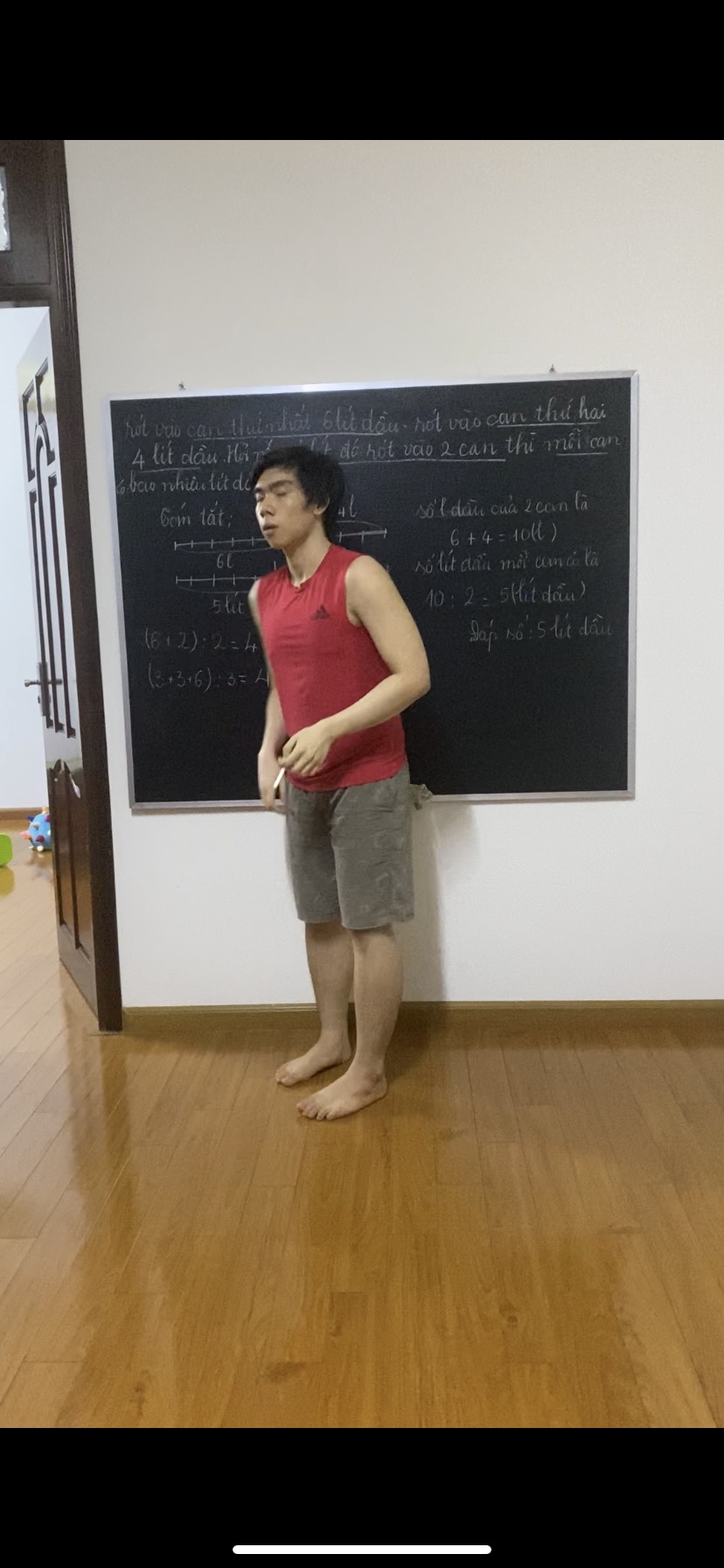cigarette: (268, 765, 289, 794)
person: (247, 427, 435, 1120)
